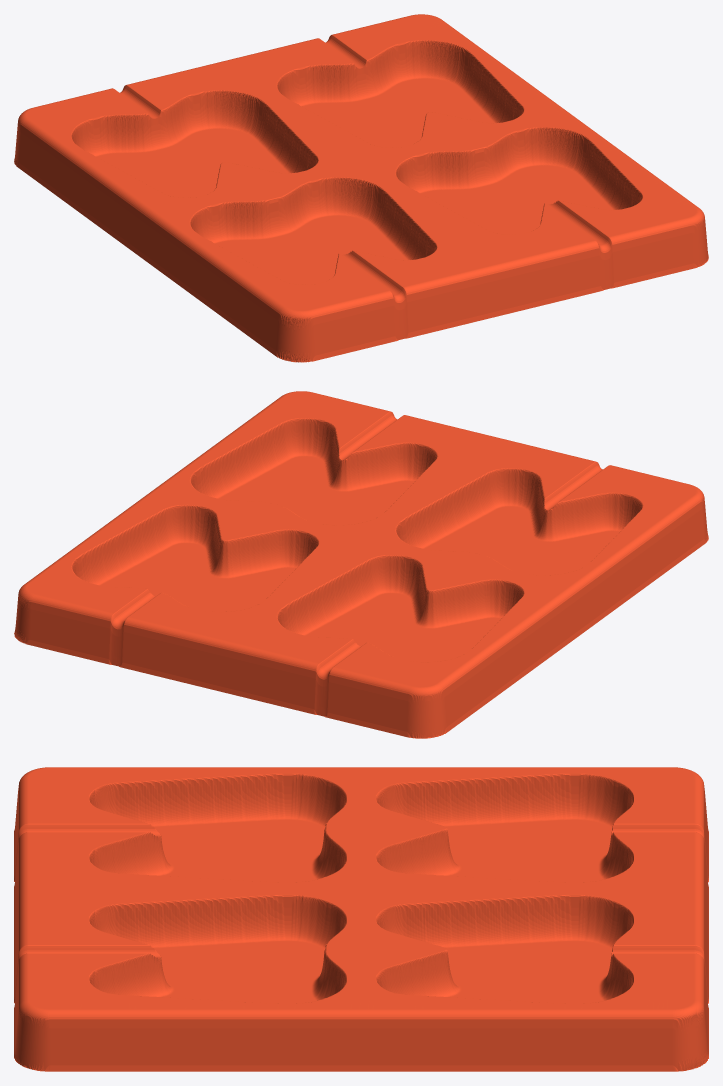
File: mold.glb
The picture shows the model from 3 angles, top to bottom: view 1: azimuth 30°, elevation 25°; view 2: azimuth 150°, elevation 25°; view 3: azimuth 270°, elevation 25°; orthographic projection. The views are drawn at different scales.
Parts seen in each view (by area): view 1: geometry_0; view 2: geometry_0; view 3: geometry_0.
Boxes of the visible parts, left/top/right/bottom form: geometry_0: left=14, top=14, right=708, bottom=362; geometry_0: left=14, top=391, right=708, bottom=738; geometry_0: left=14, top=767, right=708, bottom=1071.
Bounding box in the file's own units: 0.1497 × 0.0155 × 0.1735.
